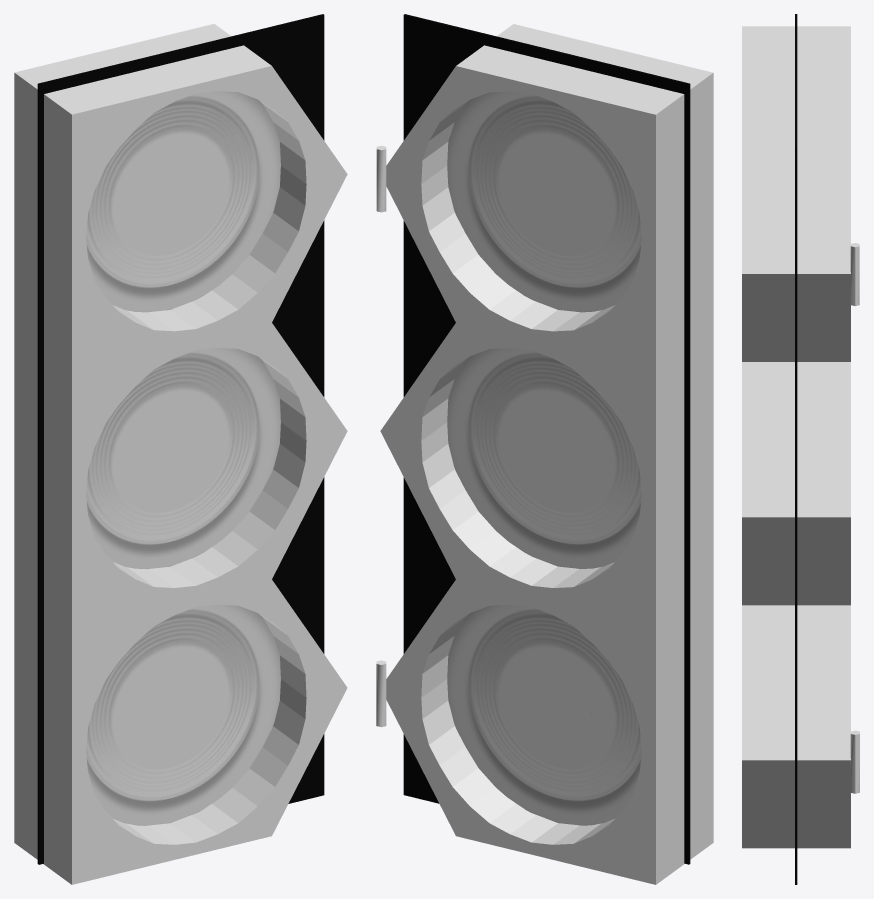
The model's file is Main Door Left.dae.
3 renders of one model, left to right at view 1: azimuth 30°, elevation 25°; view 2: azimuth 150°, elevation 25°; view 3: azimuth 270°, elevation 25°, orthographic. The views are drawn at different scales.
Visible parts, largest first — view 1: prim3, prim0, prim1, prim2, prim4; view 2: prim3, prim0, prim1, prim2, prim4, prim5, prim6; view 3: prim3, prim4, prim5, prim6.
Part boxes in pixels (x1,y1,x2,y2): prim3: (14,23,347,884); prim0: (86,91,280,312); prim1: (86,348,280,569); prim2: (86,604,280,825); prim4: (37,14,324,864); prim3: (380,24,713,884); prim0: (447,91,641,312); prim1: (447,348,641,568); prim2: (447,604,641,825); prim4: (403,14,690,864); prim5: (376,660,386,727); prim6: (376,145,386,212); prim3: (742,26,850,848); prim4: (795,14,797,884); prim5: (850,730,859,793); prim6: (850,243,859,306).
Bounding box in the file's own units: 1.34 × 0.5062 × 3.5.
4 materials, 3 textured.
